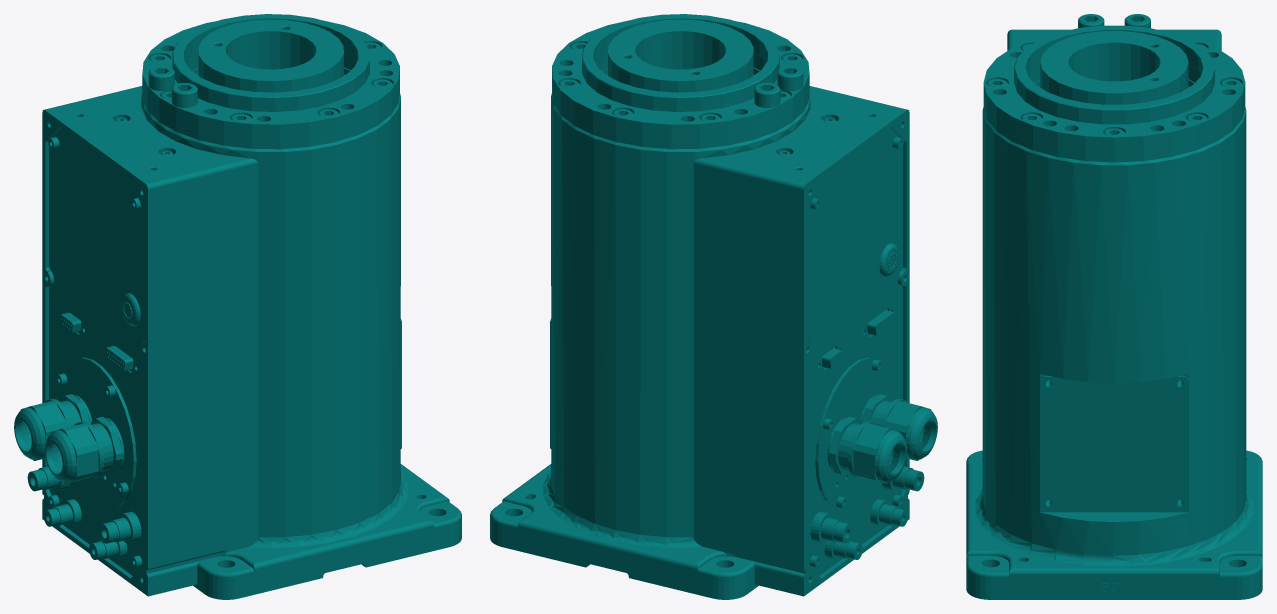
3 views of the same model, side by side, from view 1: azimuth 30°, elevation 25°; view 2: azimuth 150°, elevation 25°; view 3: azimuth 270°, elevation 25° (orthographic).
Parts seen in each view (by area): view 1: node0; view 2: node0; view 3: node0.
Boxes of the visible parts, x1,y1,x2,y2 form: node0: (14, 14, 461, 599); node0: (490, 14, 937, 599); node0: (966, 14, 1262, 599).
Bounding box in the file's own units: 0.2555 × 0.18 × 0.3185.
